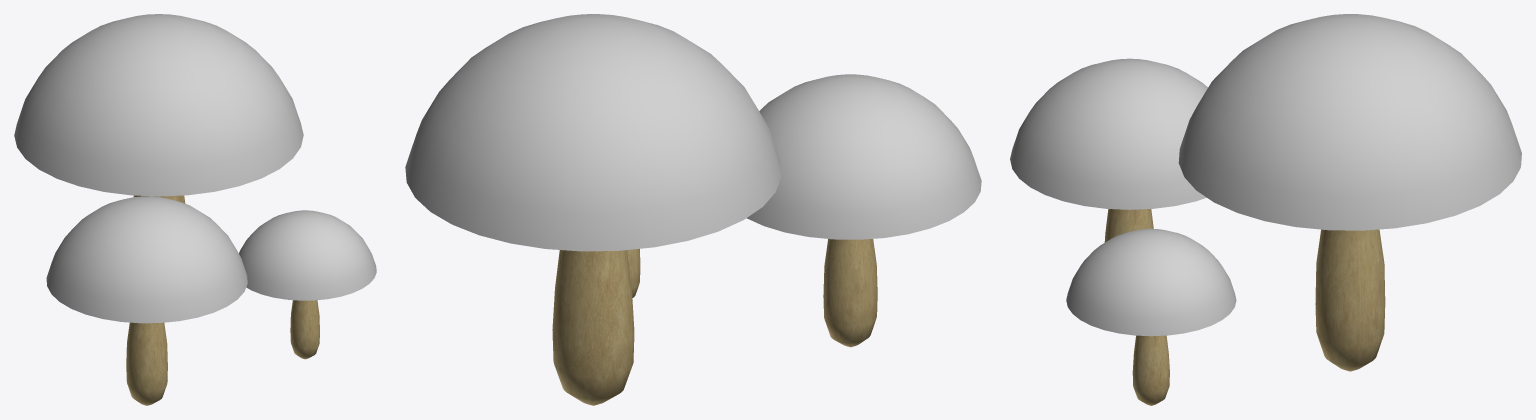
The model's file is pilze_rescale.FBX.
3 views of the same model, side by side, from view 1: azimuth 30°, elevation 25°; view 2: azimuth 150°, elevation 25°; view 3: azimuth 270°, elevation 25° (orthographic). The views are drawn at different scales.
Visible parts, largest first — view 1: Pilz2, Pilz3, Pilz1; view 2: Pilz2, Pilz3; view 3: Pilz2, Pilz3, Pilz1.
Part boxes in pixels (x1=…): Pilz2: x1=14, y1=14, x2=303, y2=203; Pilz3: x1=46, y1=196, x2=247, y2=405; Pilz1: x1=239, y1=210, x2=376, y2=359; Pilz2: x1=405, y1=14, x2=781, y2=405; Pilz3: x1=746, y1=74, x2=981, y2=347; Pilz2: x1=1178, y1=14, x2=1521, y2=371; Pilz3: x1=1010, y1=58, x2=1207, y2=242; Pilz1: x1=1066, y1=228, x2=1236, y2=405.
Bounding box in the file's own units: 29.99 × 25.97 × 35.29.
